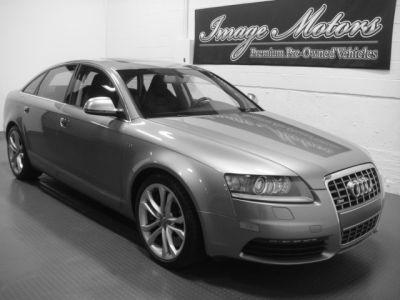car: (5, 58, 387, 272)
